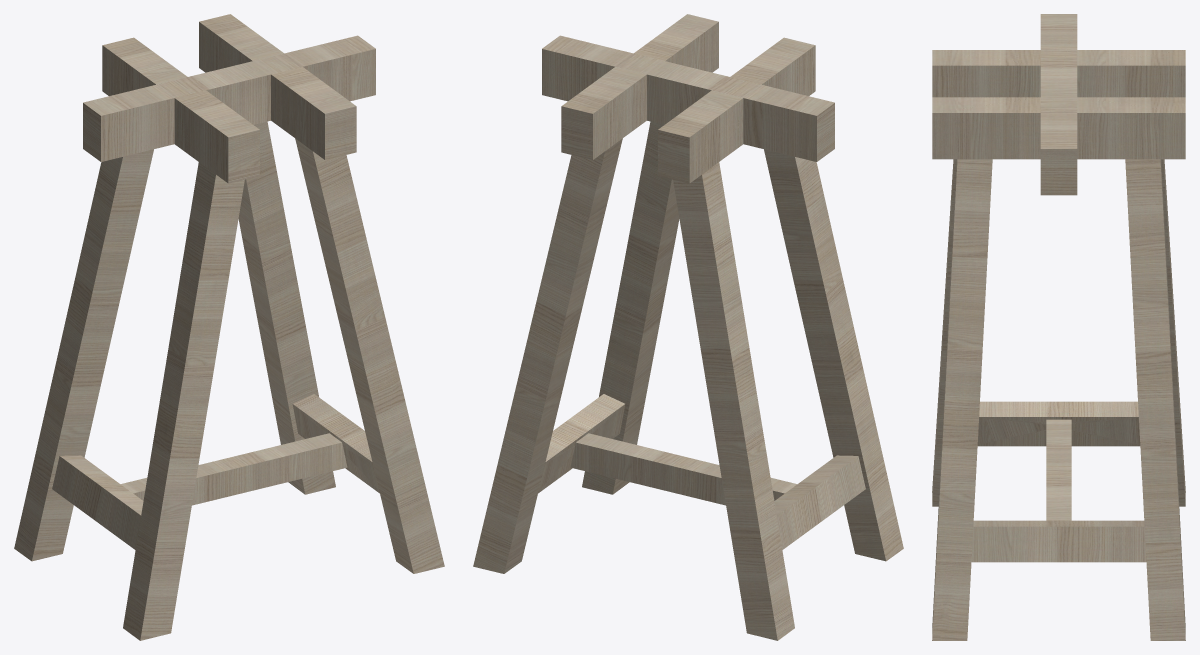
Rendered from piedtest.glb.
3 renders of one model, left to right at view 1: azimuth 30°, elevation 25°; view 2: azimuth 150°, elevation 25°; view 3: azimuth 270°, elevation 25°, orthographic.
Parts seen in each view (by area): view 1: Nouveau-01_Vasque lavoir - Pied Bois - L012 (Meshed); view 2: Nouveau-01_Vasque lavoir - Pied Bois - L012 (Meshed); view 3: Nouveau-01_Vasque lavoir - Pied Bois - L012 (Meshed).
Boxes of the visible parts, bbox=[...] form: Nouveau-01_Vasque lavoir - Pied Bois - L012 (Meshed): bbox=[14, 14, 444, 640]; Nouveau-01_Vasque lavoir - Pied Bois - L012 (Meshed): bbox=[473, 14, 903, 640]; Nouveau-01_Vasque lavoir - Pied Bois - L012 (Meshed): bbox=[932, 14, 1185, 640].
Bounding box in the file's own units: 0.4829 × 0.73 × 0.3463.
1 material, 1 textured.
